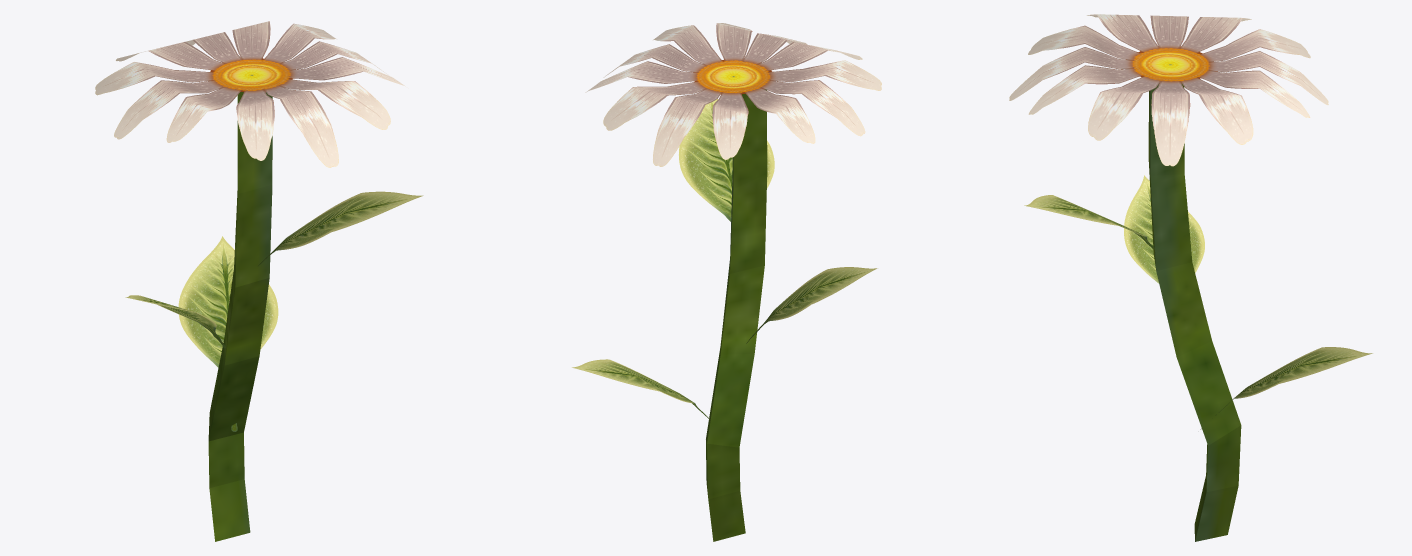
The model's file is flower_7.fbx.
The picture shows the model from 3 angles, left to right: view 1: azimuth 30°, elevation 25°; view 2: azimuth 150°, elevation 25°; view 3: azimuth 270°, elevation 25°; orthographic projection. The views are drawn at different scales.
Parts seen in each view (by area): view 1: Plane.018; view 2: Plane.018; view 3: Plane.018.
Boxes of the visible parts, x1,y1,x2,y2 form: Plane.018: [95, 21, 423, 541]; Plane.018: [572, 23, 881, 541]; Plane.018: [1009, 14, 1372, 541].
Size of the model in its own units: 66.06 by 101 by 77.6.
